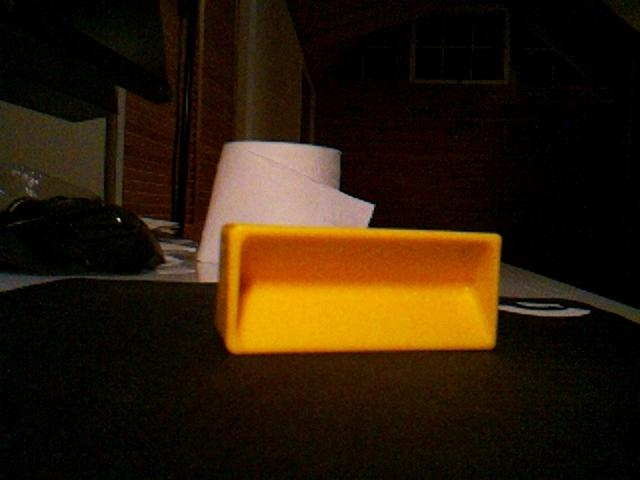yellow: (215, 222, 503, 355)
